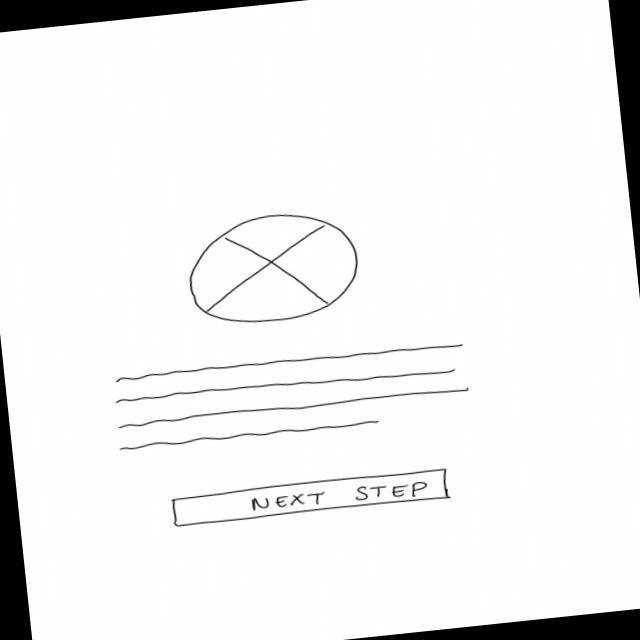button: (167, 467, 454, 531)
image: (182, 206, 367, 333)
textbox: (111, 339, 477, 457)
